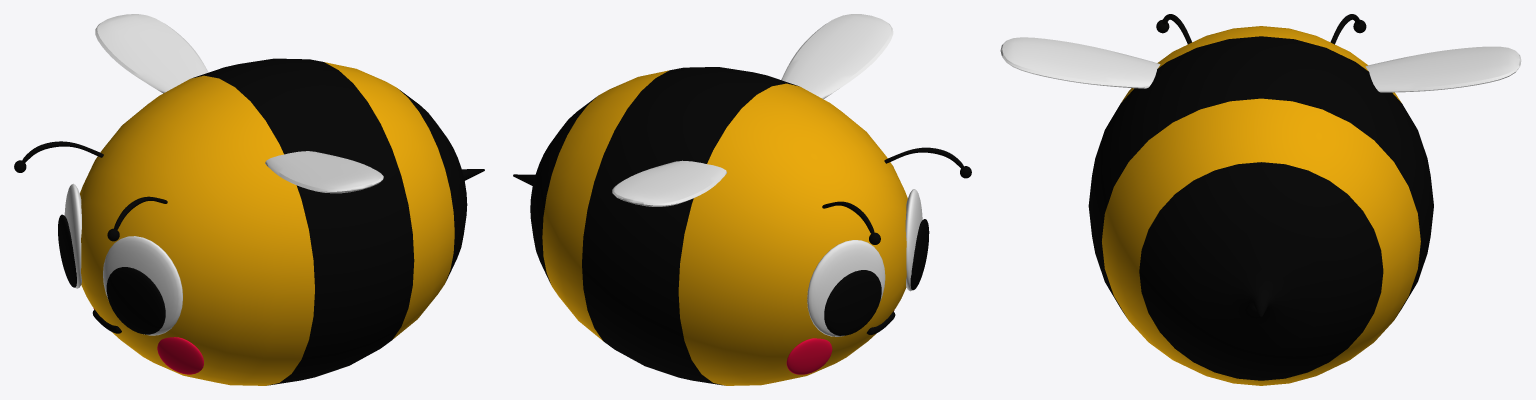
The model's file is bee.fbx.
The picture shows the model from 3 angles, left to right: view 1: azimuth 30°, elevation 25°; view 2: azimuth 150°, elevation 25°; view 3: azimuth 270°, elevation 25°; orthographic projection. The views are drawn at different scales.
Parts seen in each view (by area): view 1: Sphere.001, Cube.001, Cube.002, Cube; view 2: Sphere.001, Cube.002, Cube.001, Cube; view 3: Sphere.001, Cube.002, Cube.001, Cube.
Part boxes in pixels (<box>): Sphere.001: <box>58,58,484,385</box>; Cube.001: <box>95,14,208,93</box>; Cube.002: <box>265,151,383,193</box>; Cube: <box>14,141,167,241</box>; Sphere.001: <box>513,67,929,385</box>; Cube.002: <box>781,14,893,99</box>; Cube.001: <box>612,160,726,206</box>; Cube: <box>822,147,971,244</box>; Sphere.001: <box>1088,26,1433,385</box>; Cube.002: <box>1000,37,1160,88</box>; Cube.001: <box>1365,46,1521,92</box>; Cube: <box>1156,14,1366,44</box>.
Size of the model in its own units: 256 by 170 by 259.
